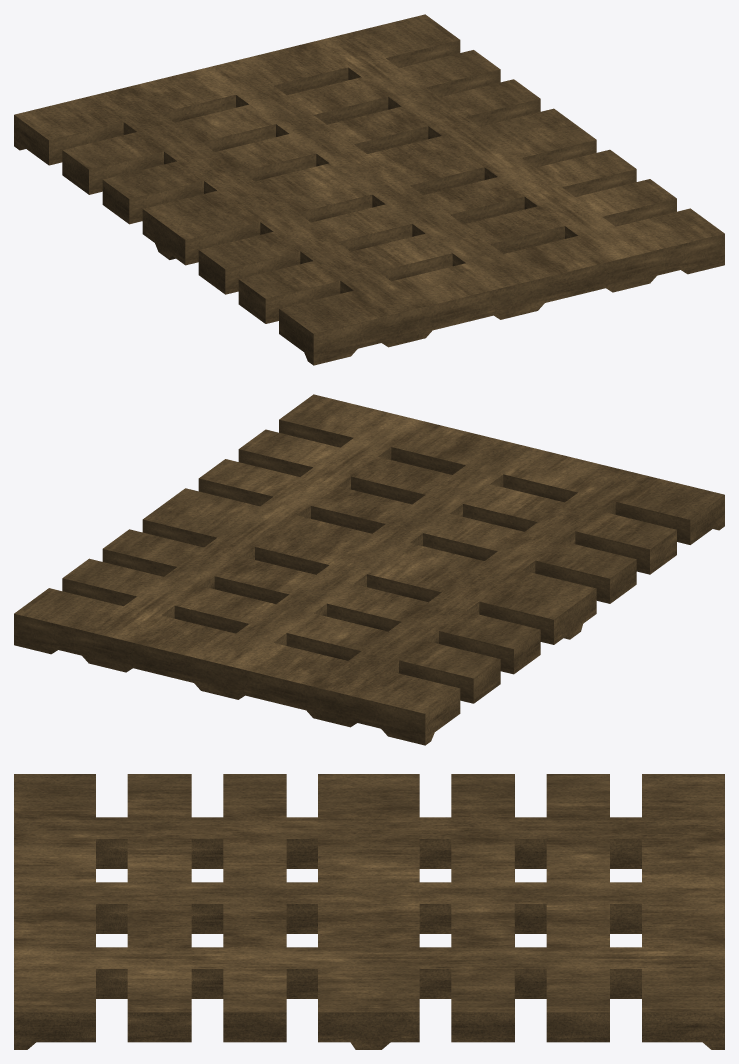
Rendered from pallette.fbx.
3 views of the same model, one above another, from view 1: azimuth 30°, elevation 25°; view 2: azimuth 150°, elevation 25°; view 3: azimuth 270°, elevation 25° (orthographic). The views are drawn at different scales.
Parts seen in each view (by area): view 1: palette; view 2: palette; view 3: palette.
Part boxes in pixels (bbox=[...]): palette: bbox=[14, 14, 724, 365]; palette: bbox=[14, 394, 724, 745]; palette: bbox=[14, 774, 724, 1049].
Size of the model in its own units: 203 by 14.88 by 256.
